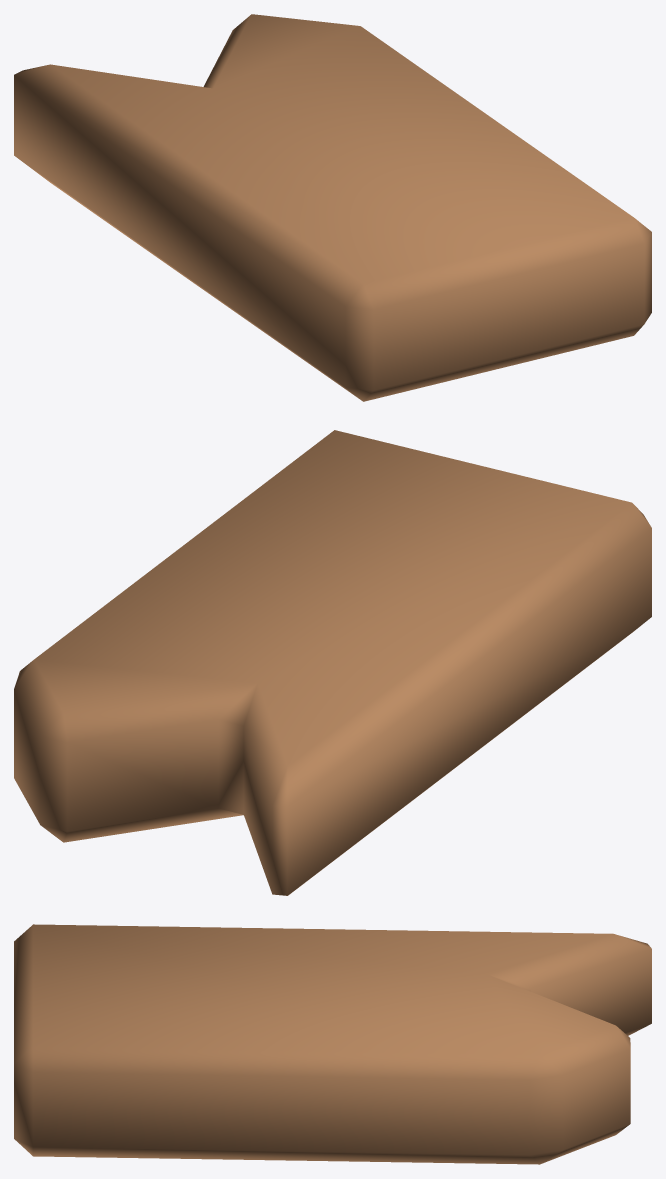
The model's file is SM_BrokenPlank.fbx.
The picture shows the model from 3 angles, top to bottom: view 1: azimuth 30°, elevation 25°; view 2: azimuth 150°, elevation 25°; view 3: azimuth 270°, elevation 25°; orthographic projection. The views are drawn at different scales.
Visible parts, largest first — view 1: SM_BrokenPlank; view 2: SM_BrokenPlank; view 3: SM_BrokenPlank.
Part boxes in pixels (x1=…): SM_BrokenPlank: x1=14, y1=14, x2=651, y2=401; SM_BrokenPlank: x1=14, y1=430, x2=651, y2=895; SM_BrokenPlank: x1=14, y1=924, x2=651, y2=1164.
Bounding box in the file's own units: 0.6838 × 0.2738 × 1.33.
